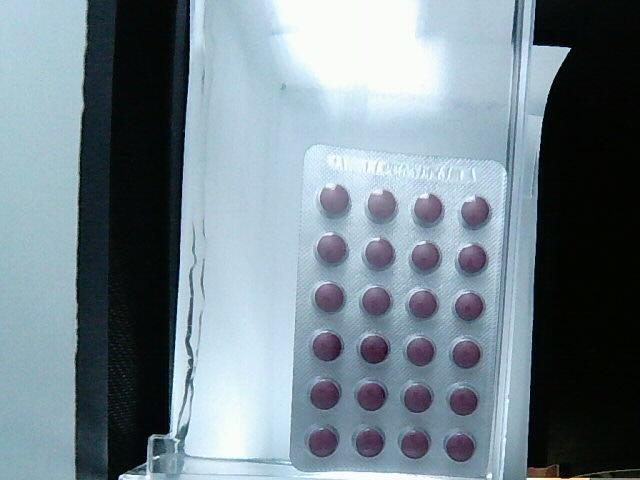Light Front: (288, 145, 509, 480)
Pill Front: (458, 191, 491, 228), (401, 333, 438, 365), (316, 181, 351, 214), (311, 280, 345, 311), (308, 331, 345, 359), (409, 238, 441, 270), (451, 289, 484, 320), (357, 333, 391, 363), (399, 428, 431, 459), (399, 381, 432, 411), (354, 382, 388, 411), (412, 192, 443, 223), (450, 385, 480, 417), (354, 426, 386, 456), (307, 426, 340, 455), (317, 230, 345, 264), (405, 290, 440, 316), (458, 245, 487, 275), (445, 433, 476, 461), (359, 240, 395, 264), (450, 338, 482, 364), (367, 189, 400, 214), (310, 380, 339, 408), (363, 289, 393, 315)
